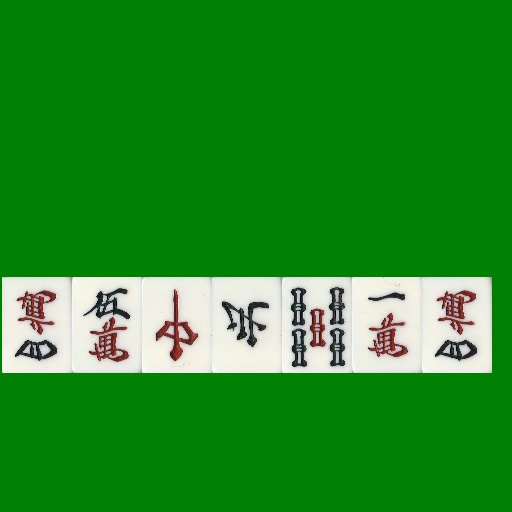1m: (352, 277, 422, 373)
4m: (2, 277, 72, 373), (422, 277, 492, 373)
5m: (72, 277, 142, 373)
5s: (282, 277, 352, 373)
north: (212, 277, 282, 373)
tyun: (142, 277, 212, 373)
